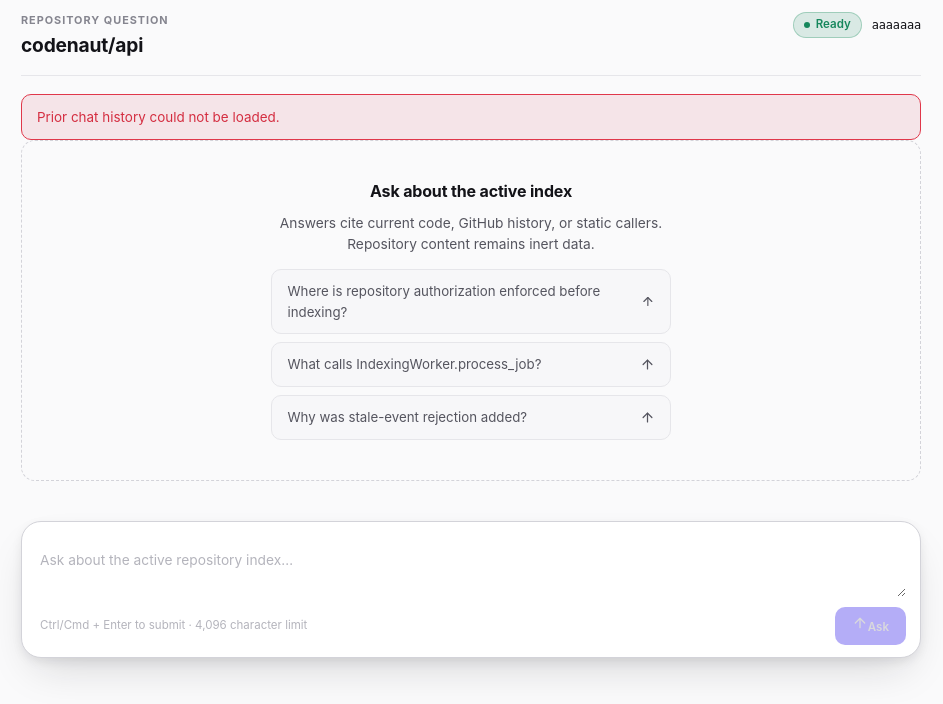
QuestionWorkspacePage › preserves a recoverable question after a service failure
The width and height of the screenshot is (943, 704).
Step 1. Type "Why was stale-event rejection added?" into the text box named "question about codenaut/api" → (473, 570), box [40,544,906,597]
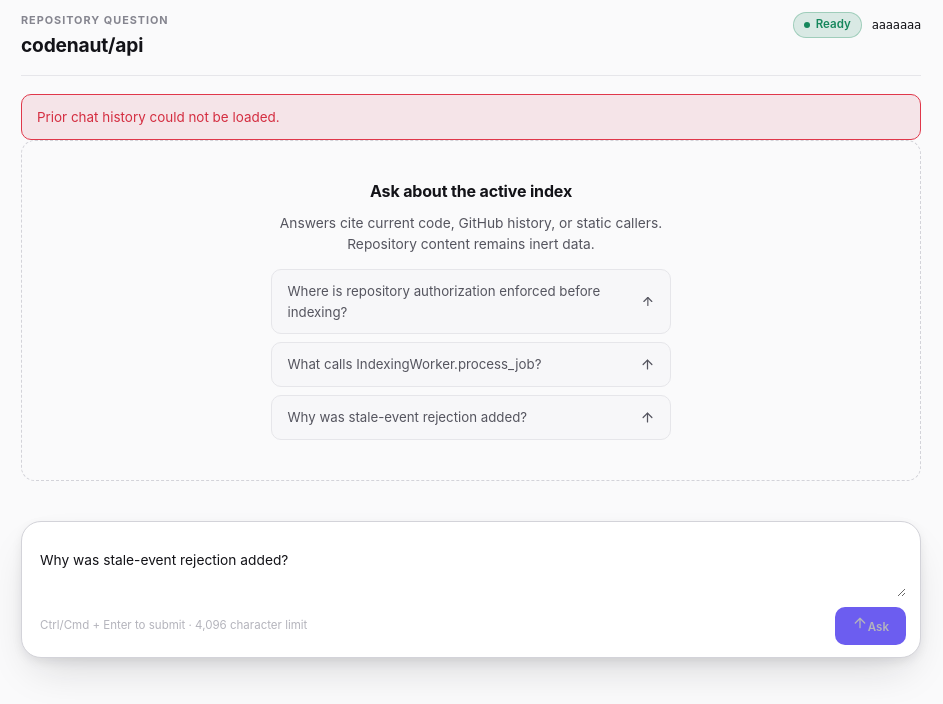
Step 2. Click the button with aria-label "ask repository" → (870, 626), box [835,607,906,645]
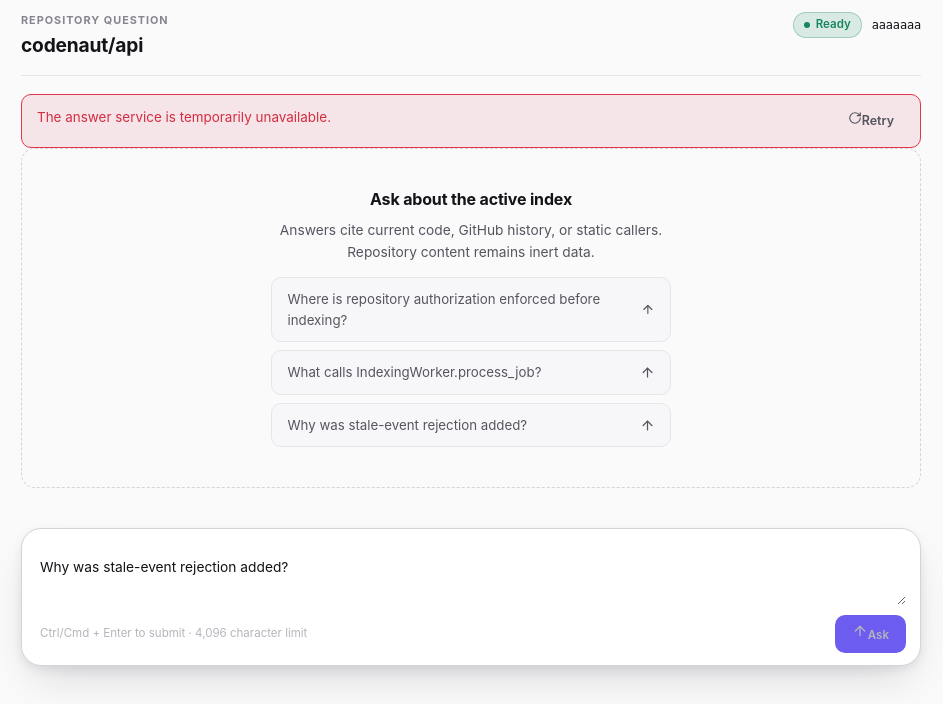
Result: the message shows "temporarily unavailable" at [37,109,331,125]
